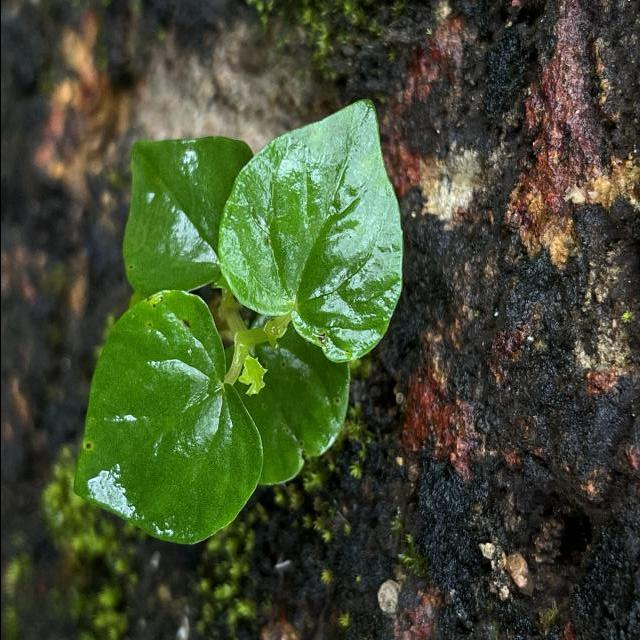Peperomia pellucida: (214, 96, 404, 366), (70, 284, 264, 548)
